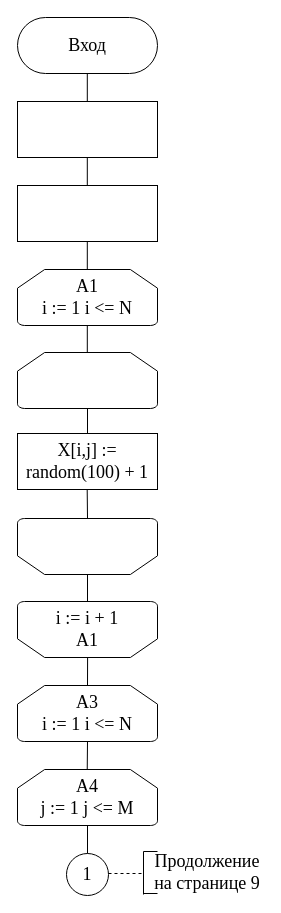
Image size: 281x913. Some labels were removed from this diagram. Each missing label, with the centre of its shape:
Const M = 9: [87,213]
Const N = 8: [87,129]
j := j + 1 А2: [87,546]
А2 j := 1 j <= M: [87,380]
